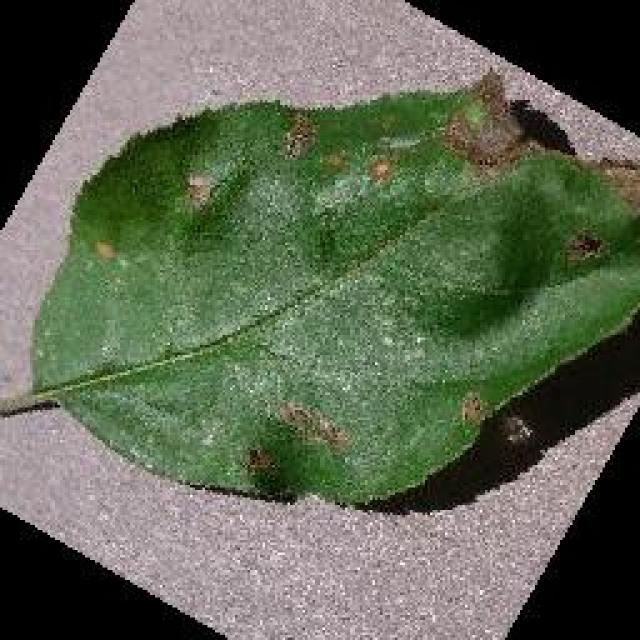apple scab disease: (25, 65, 637, 510)
